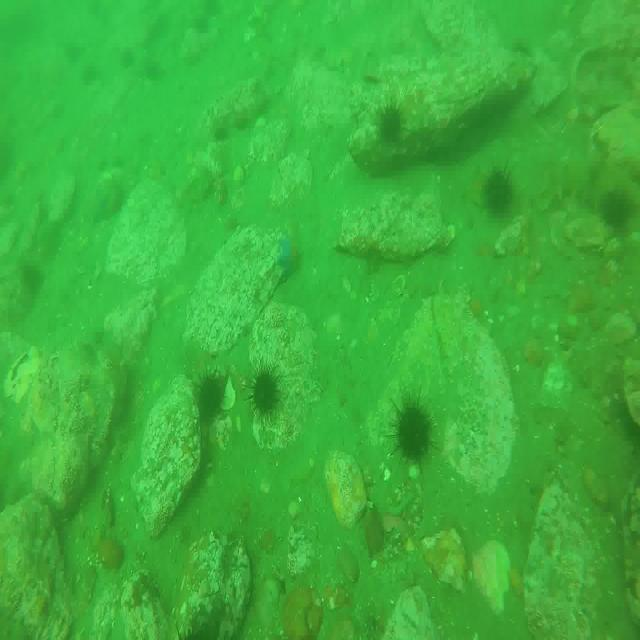echinus: (391, 401, 432, 462), (249, 364, 283, 419), (195, 369, 227, 421), (604, 183, 632, 234), (484, 164, 514, 211), (379, 104, 404, 145)
holothurian: (546, 162, 611, 210)
starfish: (278, 237, 301, 280)
